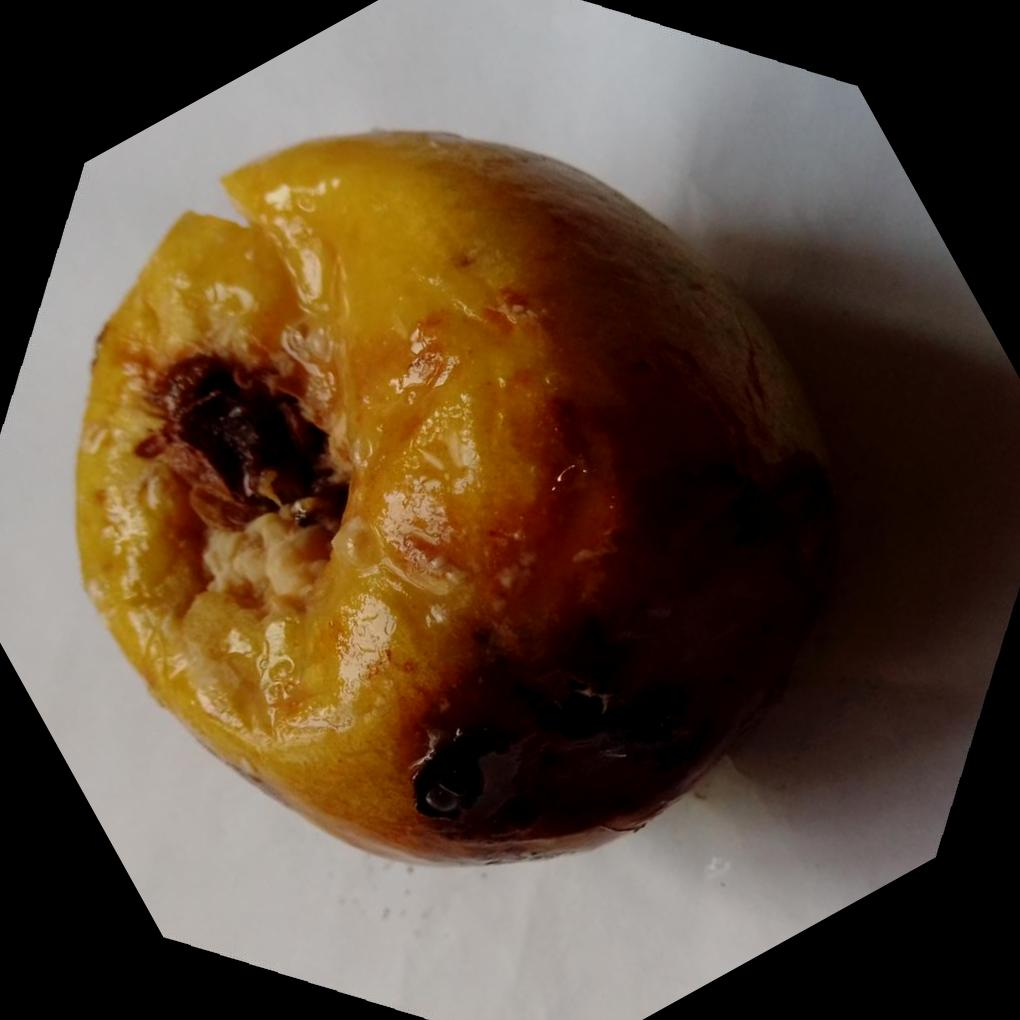FreshOrange: (73, 131, 842, 871)
